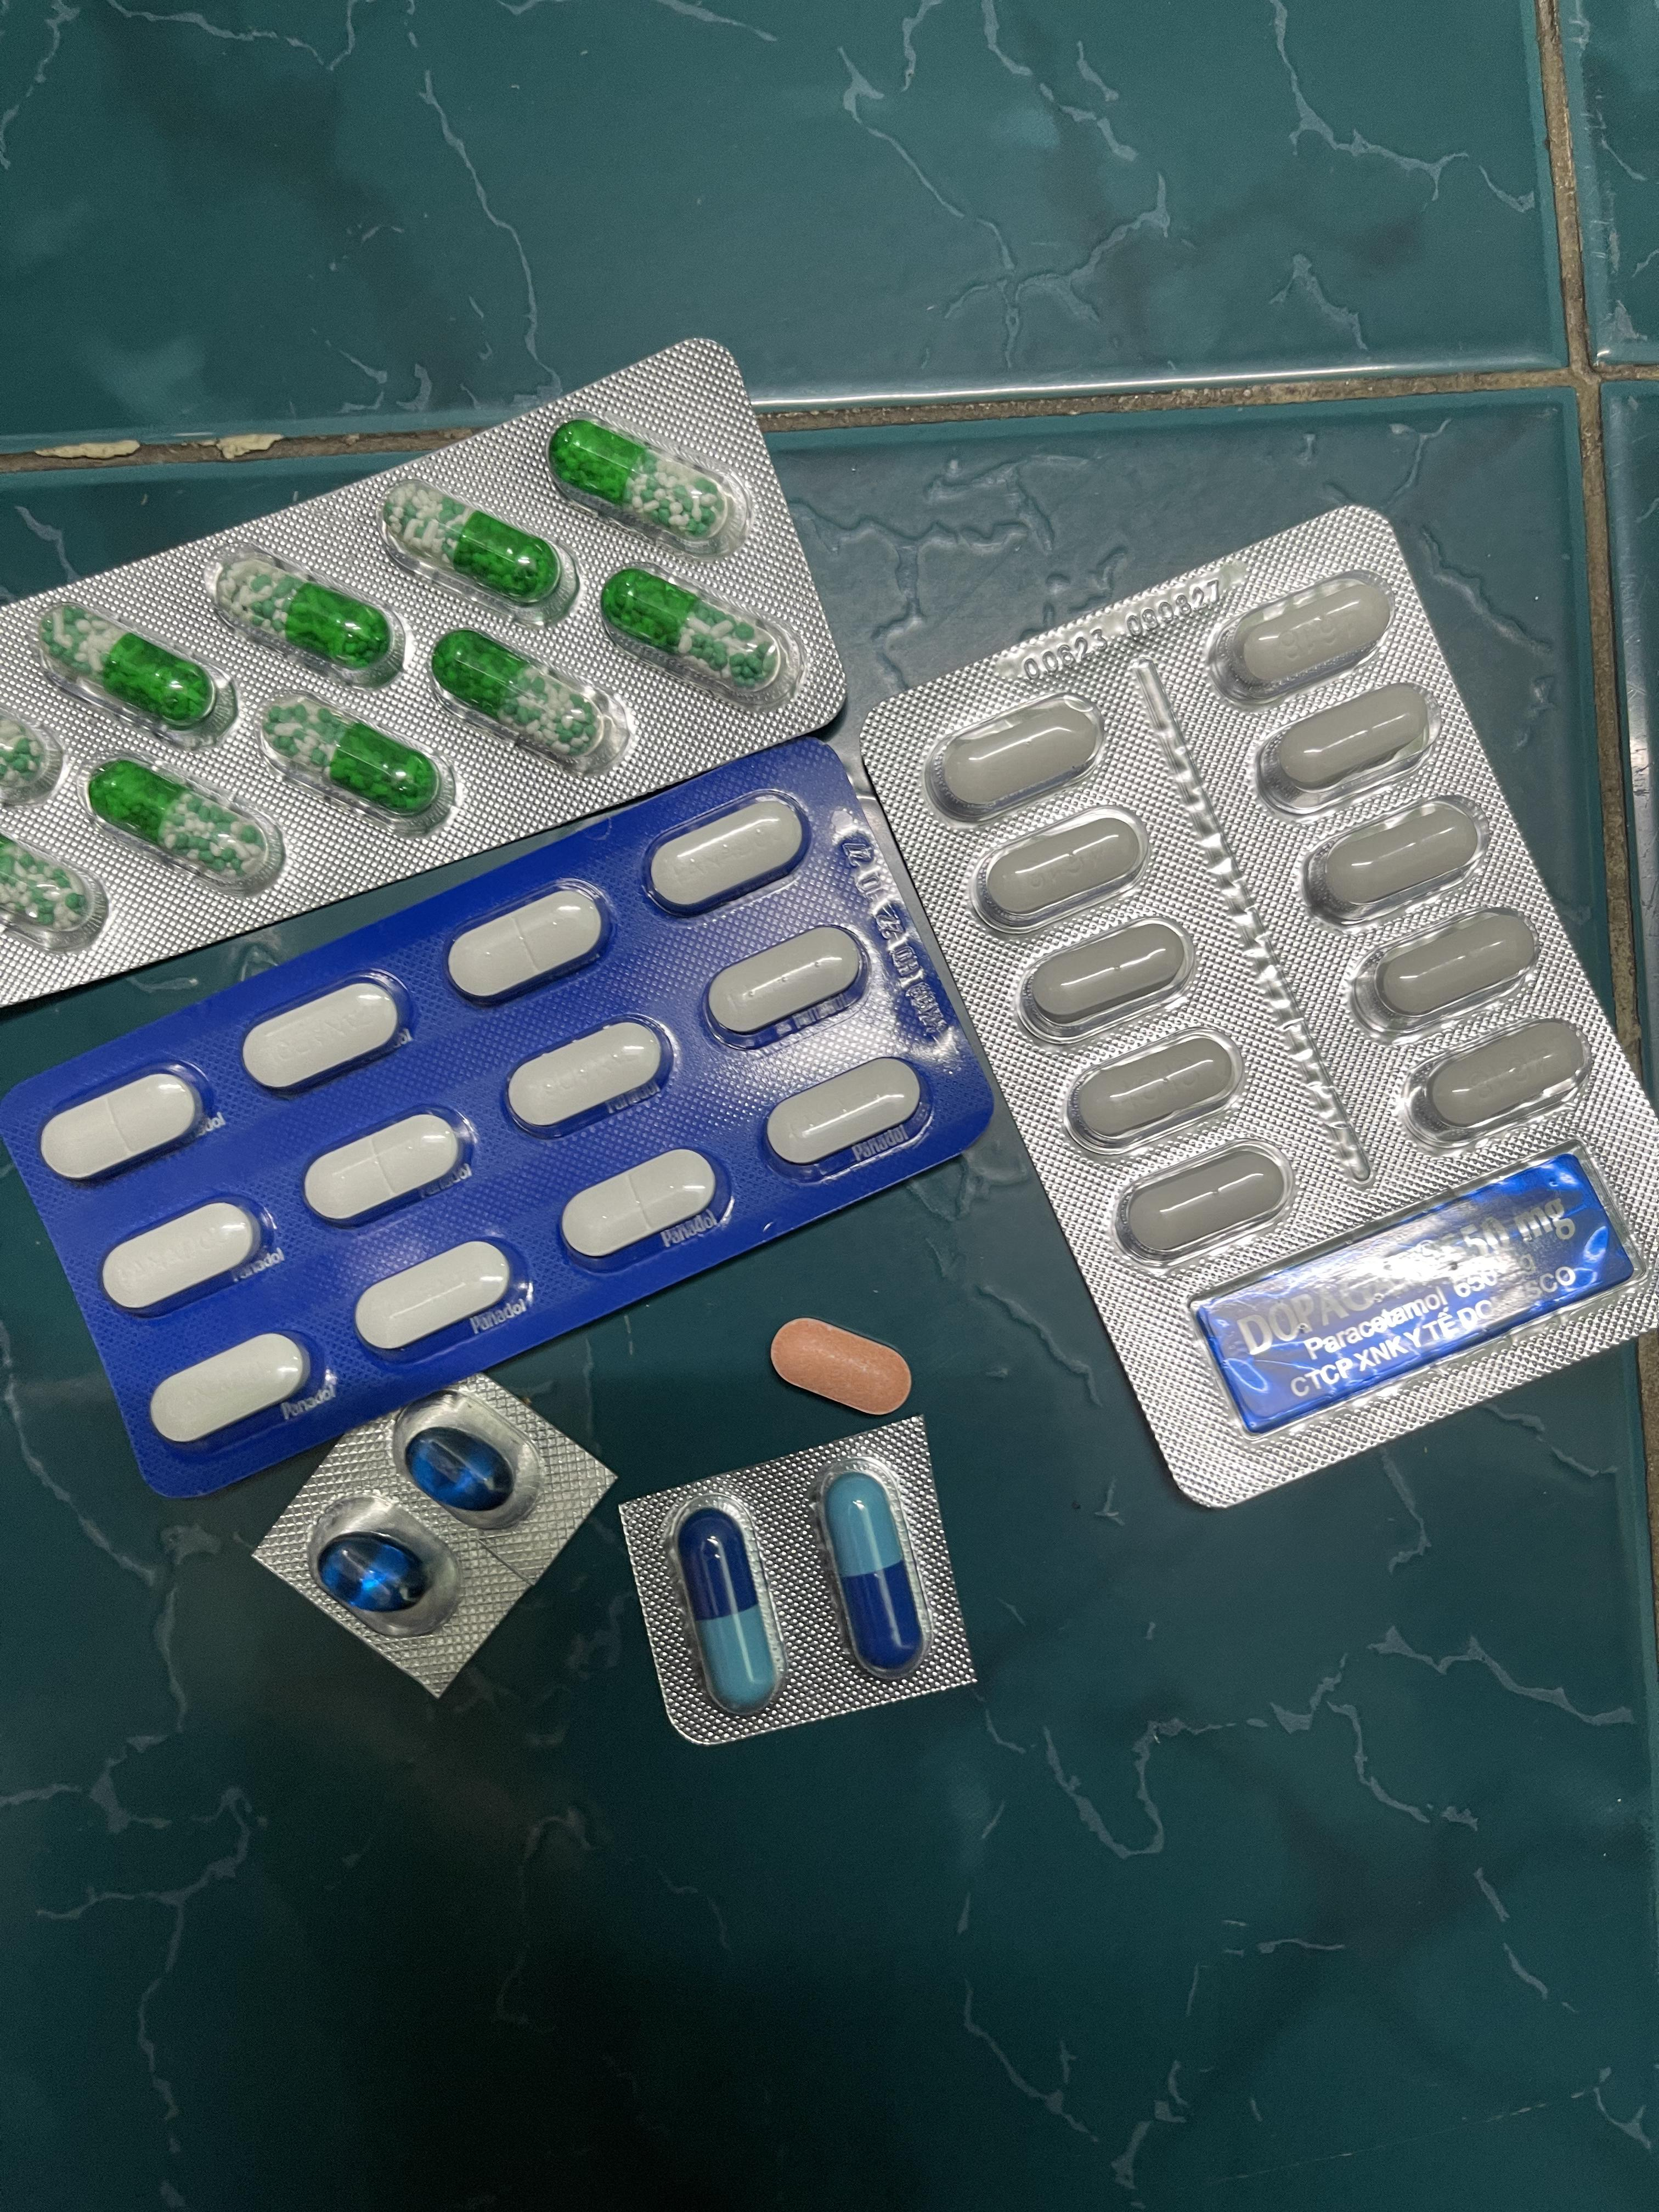Lincomyxin_500mg: (406, 1430, 512, 1510), (321, 1536, 425, 1611)
Loratadine_10mg: (767, 1317, 913, 1416)
Paracetamol_350mg: (99, 1198, 272, 1317), (444, 885, 610, 1007), (240, 977, 410, 1096), (146, 1331, 315, 1449), (504, 1021, 671, 1139), (643, 794, 810, 913), (40, 1066, 209, 1183), (559, 1148, 730, 1263), (301, 1111, 469, 1228), (349, 1240, 512, 1355), (701, 927, 864, 1042), (765, 1059, 922, 1170)
Paracetamol_500mg: (1304, 791, 1495, 927), (1403, 1014, 1598, 1146), (1209, 568, 1396, 705), (1349, 904, 1539, 1036), (1253, 681, 1439, 815), (924, 688, 1100, 824), (967, 799, 1143, 932), (1063, 1024, 1237, 1153), (1016, 916, 1183, 1045), (1112, 1139, 1288, 1261)
Paracetamol_650mg: (89, 759, 275, 883), (554, 421, 730, 545), (45, 604, 221, 726), (261, 695, 437, 815), (214, 552, 390, 672), (432, 631, 599, 756), (608, 570, 775, 688), (390, 491, 565, 604)
pill: (814, 1456, 932, 1672), (678, 1507, 781, 1710)
